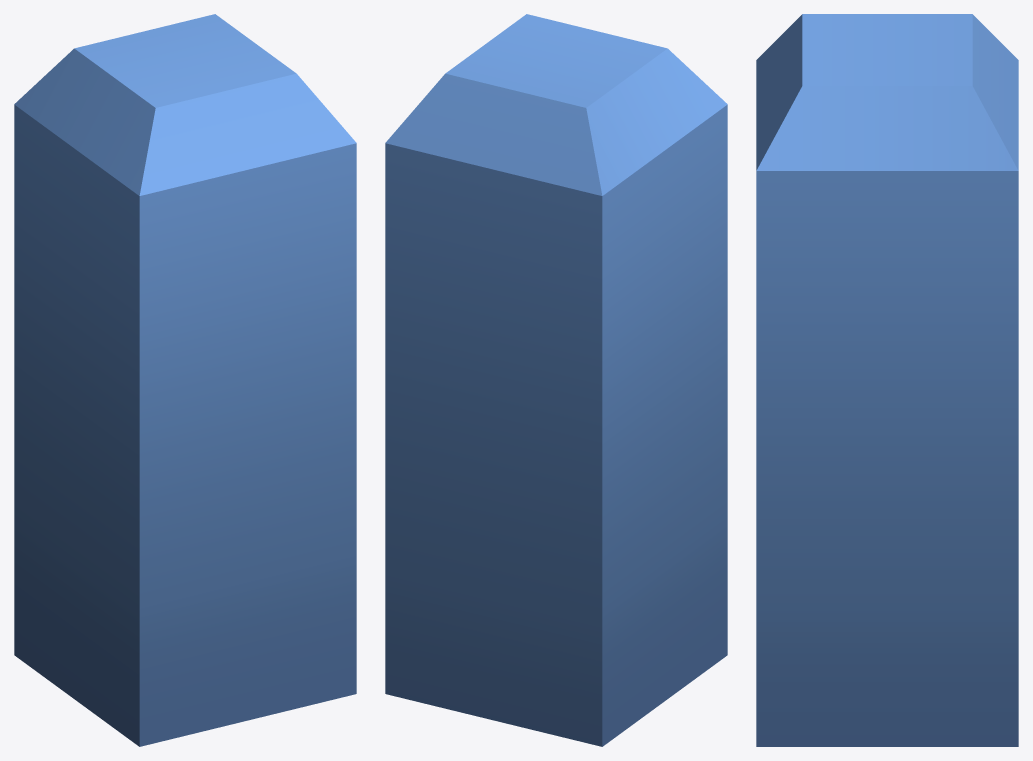
The model's file is Crystal009.fbx.
3 views of the same model, side by side, from view 1: azimuth 30°, elevation 25°; view 2: azimuth 150°, elevation 25°; view 3: azimuth 270°, elevation 25° (orthographic). The views are drawn at different scales.
Visible parts, largest first — view 1: Crystal009; view 2: Crystal009; view 3: Crystal009.
Part boxes in pixels (<box>): Crystal009: <box>14,14,356,746</box>; Crystal009: <box>385,14,727,746</box>; Crystal009: <box>756,14,1018,746</box>.
Size of the model in its own units: 25.43 by 68.64 by 25.43.
